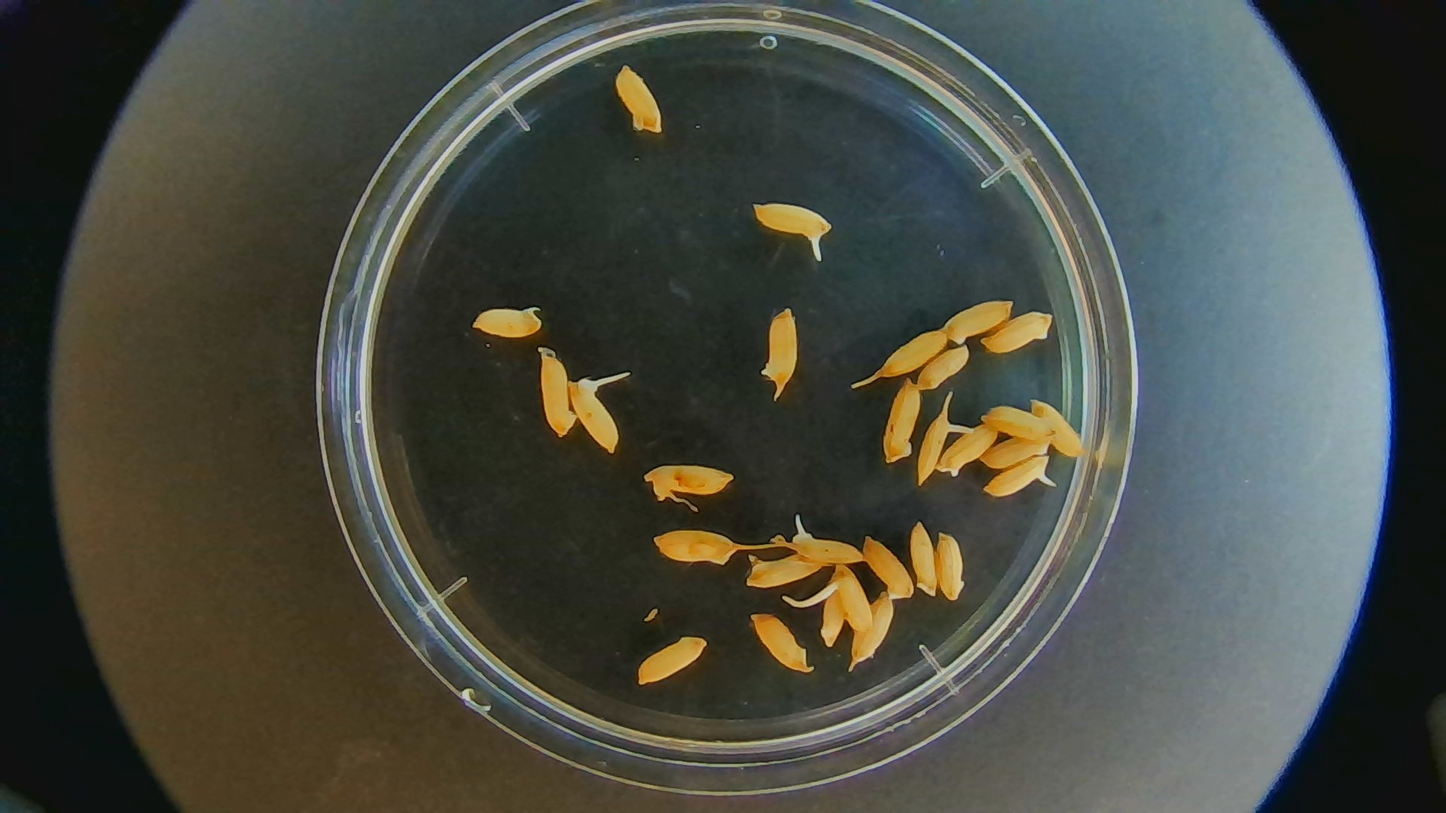no: (641, 461, 739, 513), (533, 345, 582, 437), (606, 65, 669, 136), (631, 632, 715, 684), (755, 307, 802, 397), (750, 611, 815, 673), (1024, 399, 1089, 458), (878, 379, 923, 463), (940, 413, 999, 475), (857, 536, 914, 600), (874, 327, 948, 376), (938, 298, 1011, 345), (650, 529, 743, 565), (984, 312, 1056, 358), (739, 552, 825, 589), (978, 401, 1052, 443), (853, 594, 895, 668), (904, 519, 941, 599), (977, 431, 1051, 467), (914, 343, 969, 389), (932, 531, 966, 603), (474, 307, 548, 336), (819, 583, 849, 647)
yes: (566, 383, 621, 458), (749, 197, 830, 241), (914, 406, 950, 486), (832, 565, 877, 628), (986, 455, 1051, 495), (792, 534, 867, 565)
